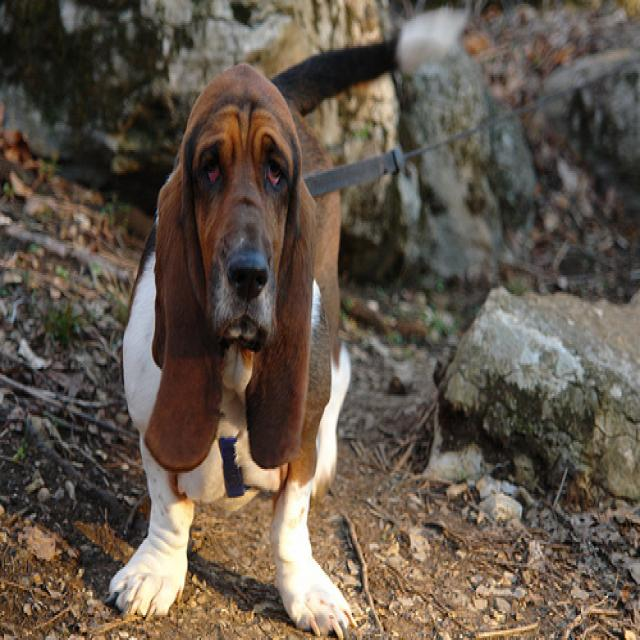dog-basset_hound: (104, 50, 358, 636)
